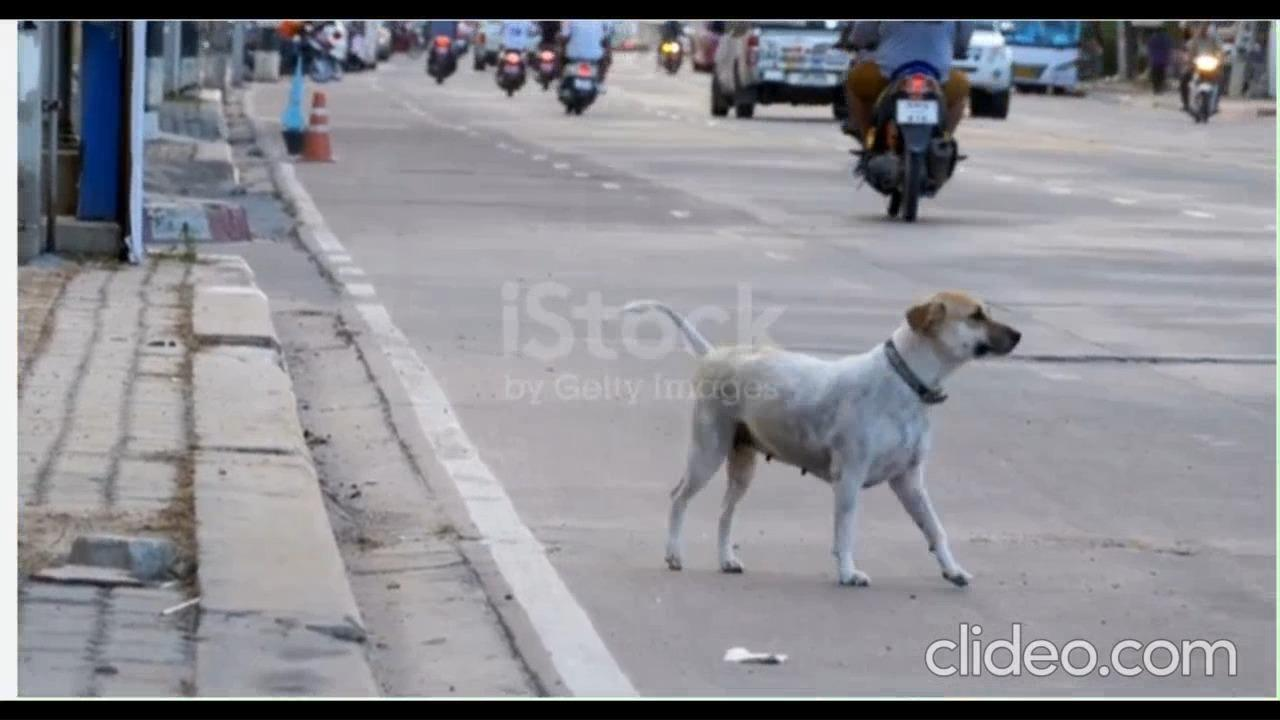dog: (650, 288, 1018, 575)
